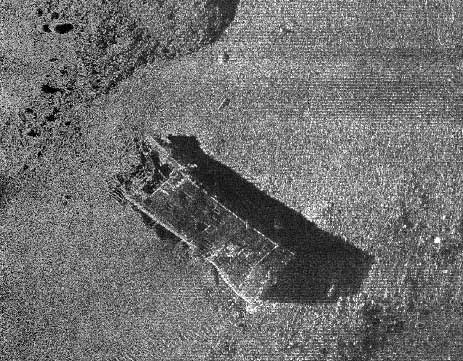ship: (119, 134, 295, 304)
